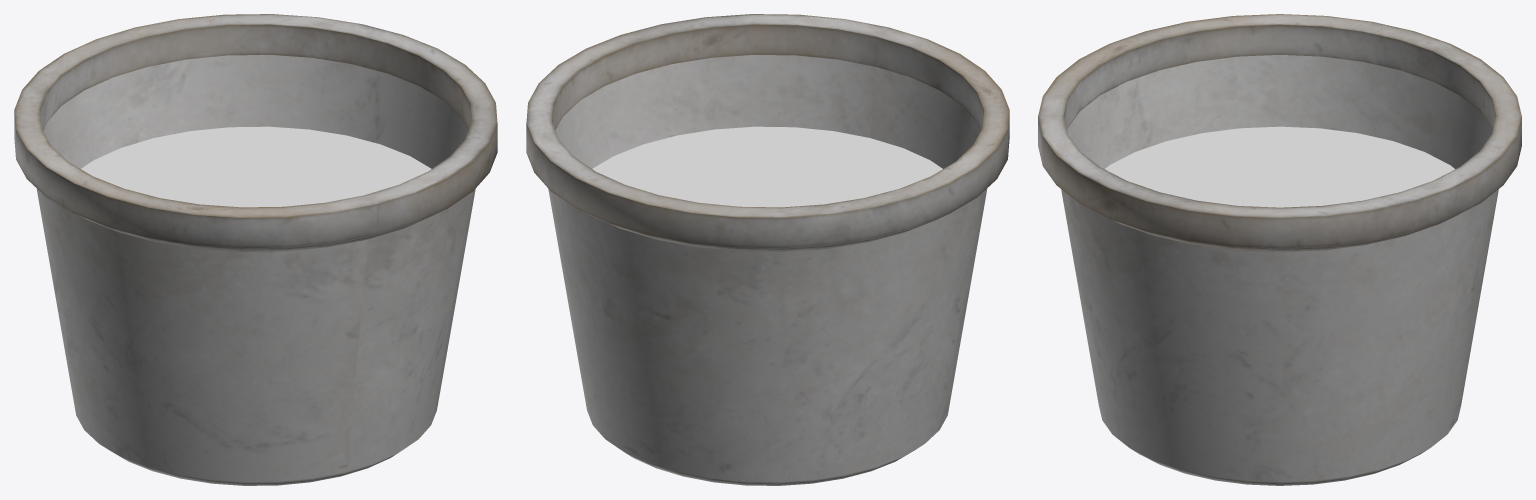
File: Pot_A.fbx
3 renders of one model, left to right at view 1: azimuth 30°, elevation 25°; view 2: azimuth 150°, elevation 25°; view 3: azimuth 270°, elevation 25°, orthographic.
Parts seen in each view (by area): view 1: Pot_A; view 2: Pot_A; view 3: Pot_A.
Part boxes in pixels (<box>): Pot_A: <box>14,14,497,485</box>; Pot_A: <box>526,14,1009,485</box>; Pot_A: <box>1038,14,1521,485</box>.
Size of the model in its own units: 51.45 by 35 by 51.45.
